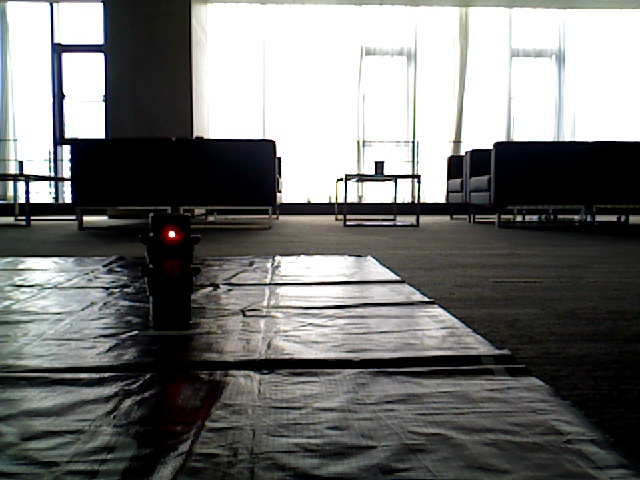red: (149, 211, 189, 309)
